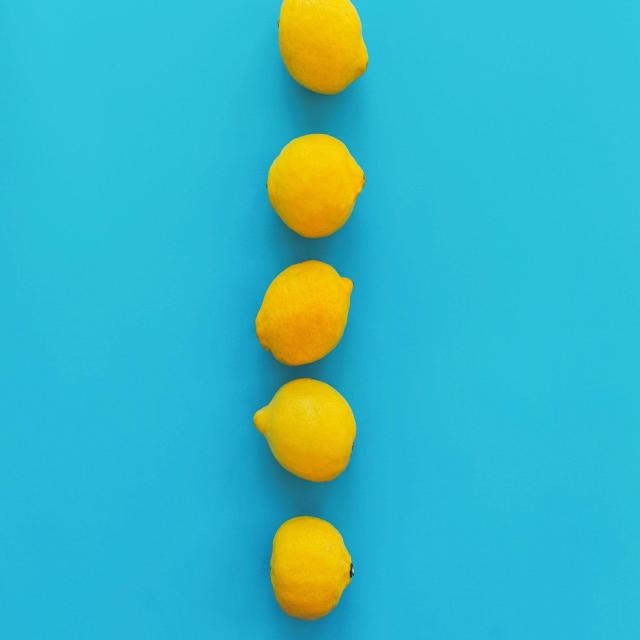lemon: (252, 258, 353, 367), (266, 130, 366, 240), (268, 512, 356, 623)
